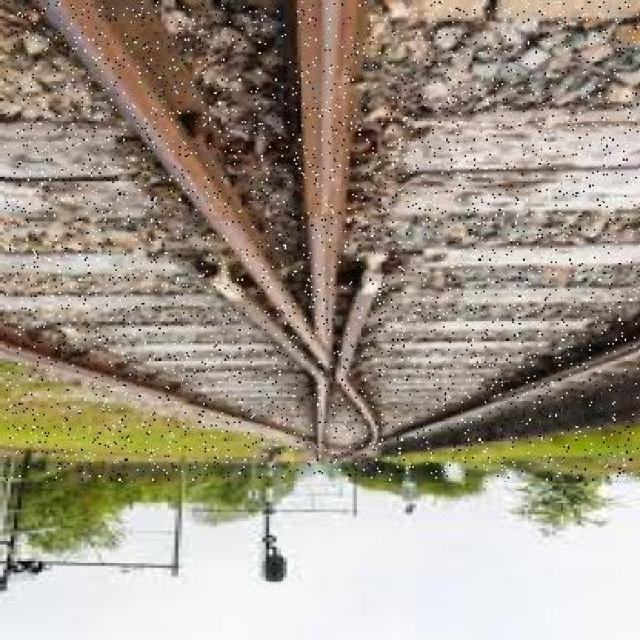rail: (6, 3, 639, 482)
